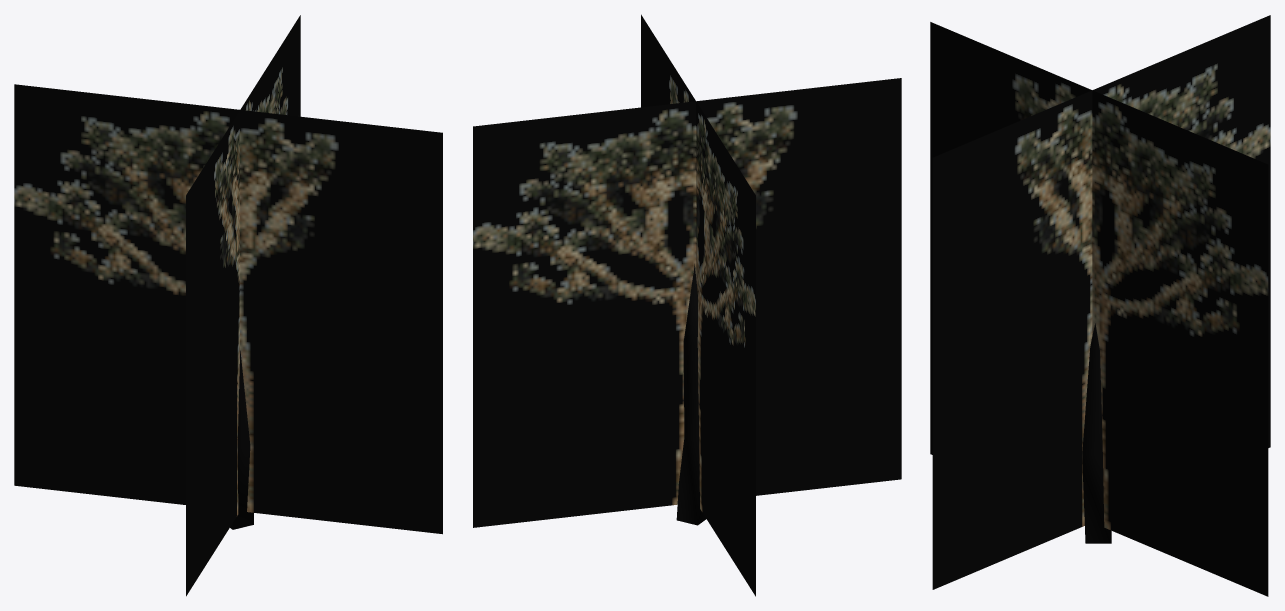
The model's file is tree051.glb.
The picture shows the model from 3 angles, left to right: view 1: azimuth 30°, elevation 25°; view 2: azimuth 150°, elevation 25°; view 3: azimuth 270°, elevation 25°; orthographic projection. The views are drawn at different scales.
Visible parts, largest first — view 1: tree051, tree051_trunk; view 2: tree051, tree051_trunk; view 3: tree051, tree051_trunk.
Boxes of the visible parts, left/top/right/bottom form: tree051: left=14, top=15, right=442, bottom=596; tree051_trunk: left=230, top=350, right=253, bottom=529; tree051: left=473, top=14, right=901, bottom=596; tree051_trunk: left=676, top=264, right=706, bottom=525; tree051: left=930, top=15, right=1270, bottom=596; tree051_trunk: left=1082, top=323, right=1111, bottom=543.
Size of the model in its own units: 2.04 by 2.82 by 1.94.
1 material, 1 textured.
